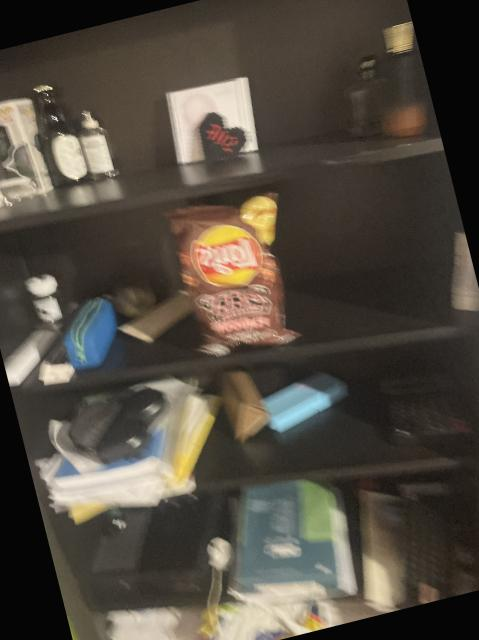Lays Beef Grilled Ribs 125g: (161, 183, 313, 364)
